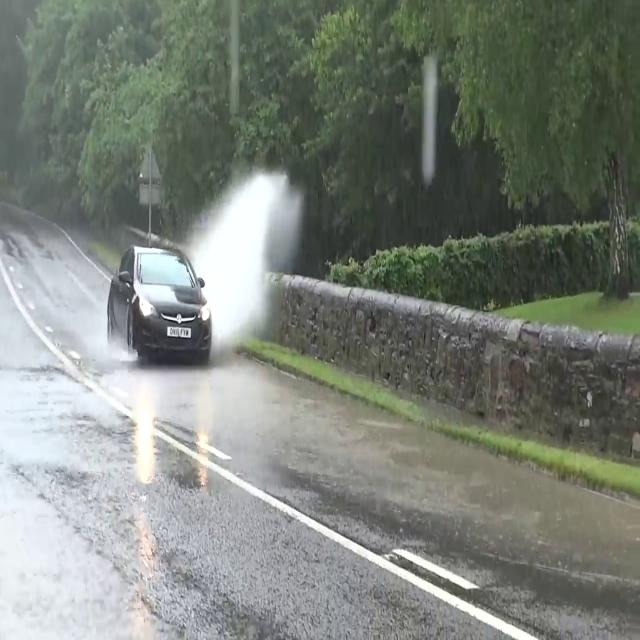license-plate-annotation: (166, 323, 194, 340)
